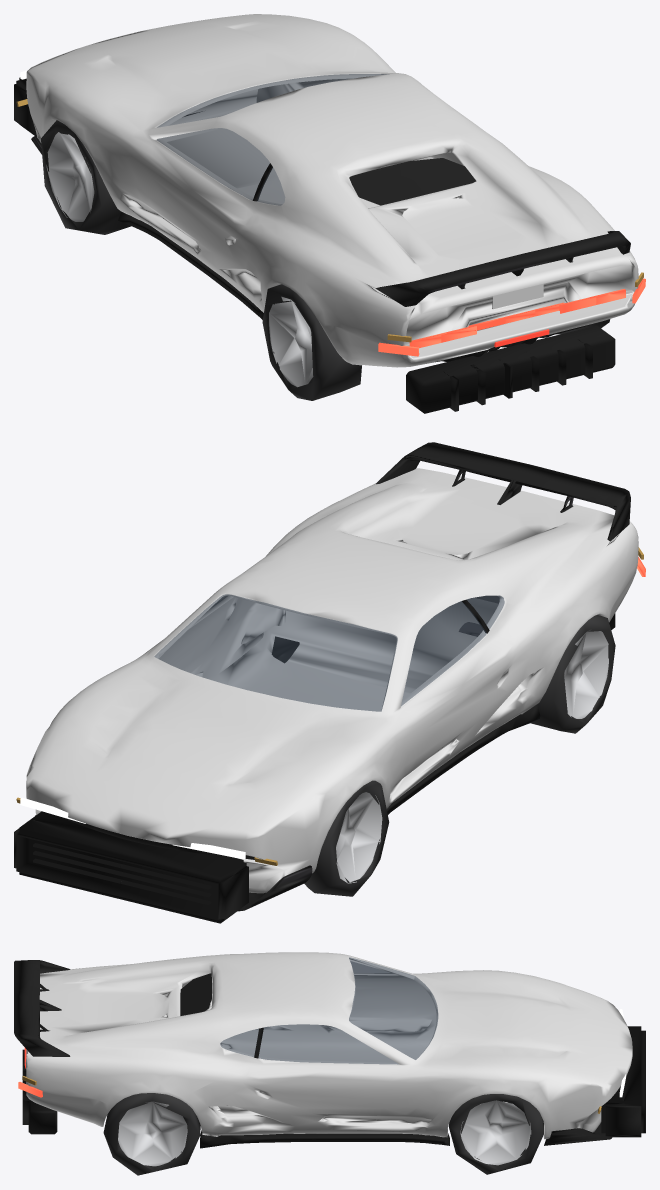
File: auto_cyber_lod2.glb
The picture shows the model from 3 angles, top to bottom: view 1: azimuth 30°, elevation 25°; view 2: azimuth 150°, elevation 25°; view 3: azimuth 270°, elevation 25°; orthographic projection. The views are drawn at different scales.
Parts seen in each view (by area): view 1: Karosserie, Rad_HL, Rad_VL, licht_hinten, Kennzeichen; view 2: Karosserie, Rad_HL, Rad_VL; view 3: Karosserie, Rad_HR, Rad_VR.
Part boxes in pixels (box(x1,y1,x2,y2)): Karosserie: box(14, 14, 638, 413); Rad_HL: box(262, 284, 361, 400); Rad_VL: box(41, 120, 130, 234); licht_hinten: box(378, 278, 645, 356); Kennzeichen: box(492, 283, 543, 309); Karosserie: box(14, 442, 638, 923); Rad_HL: box(530, 614, 615, 733); Rad_VL: box(304, 780, 389, 896); Karosserie: box(14, 952, 645, 1148); Rad_HR: box(103, 1093, 200, 1175); Rad_VR: box(448, 1094, 543, 1174).
Size of the model in its own units: 2.01 by 1.21 by 4.8.
Materials: 10 (1 with a texture image).
